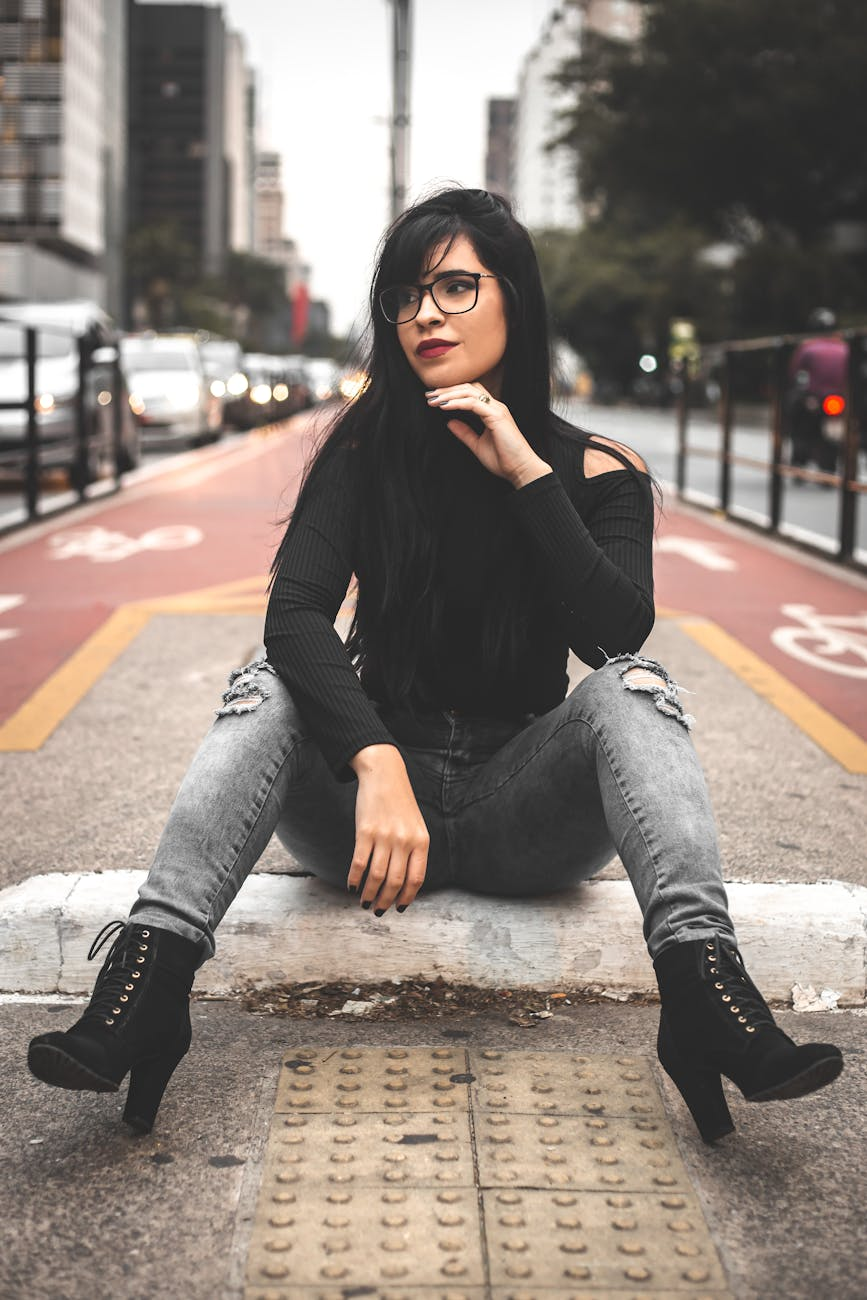ripped_jeans: (188, 655, 692, 933)
